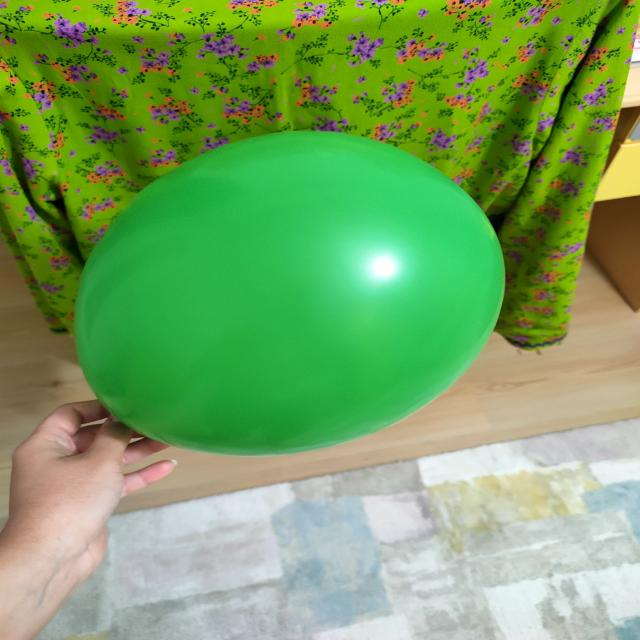green: (72, 131, 507, 457)
